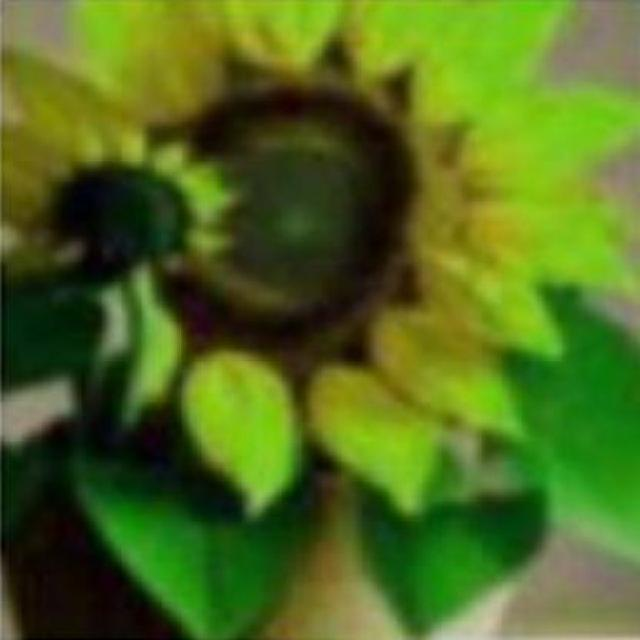sunflower: (0, 1, 640, 521)
